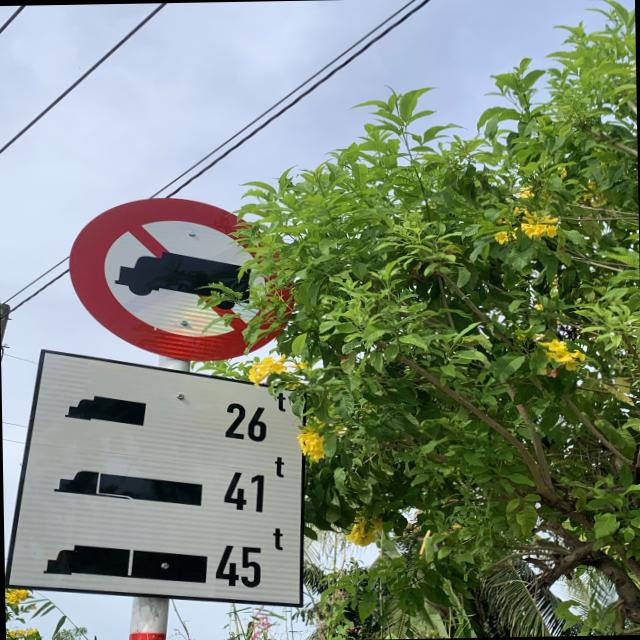Cam_Xe_Tai: (65, 192, 318, 360)
